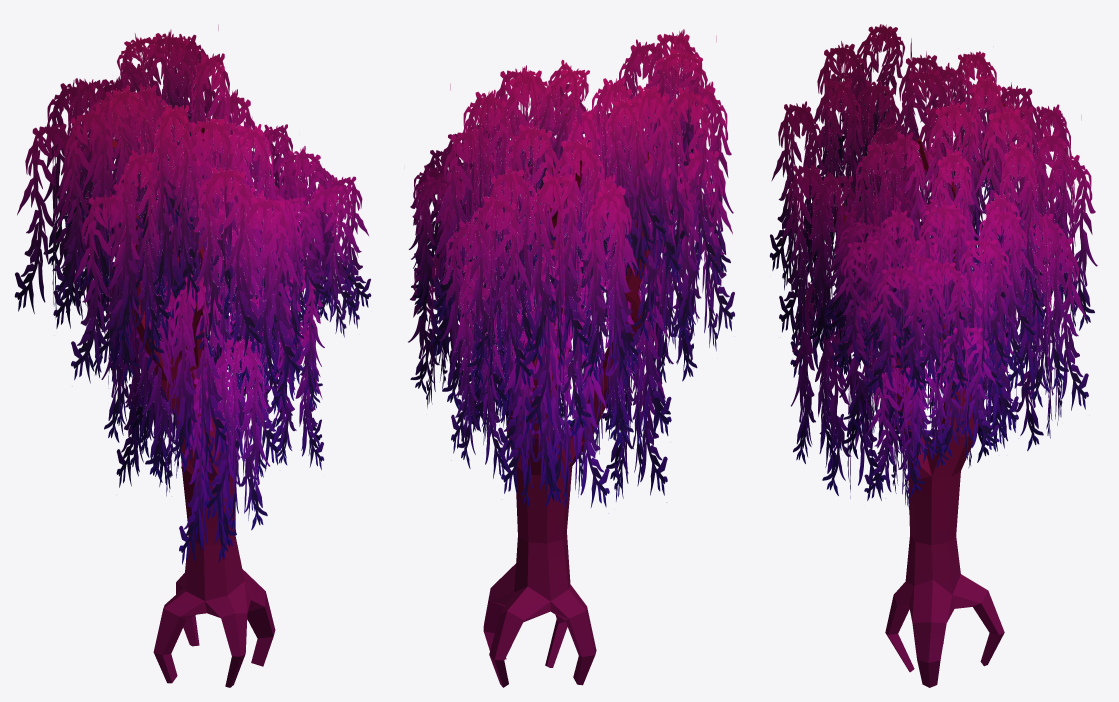
Rendered from willow-1.glb.
3 views of the same model, side by side, from view 1: azimuth 30°, elevation 25°; view 2: azimuth 150°, elevation 25°; view 3: azimuth 270°, elevation 25° (orthographic). The views are drawn at different scales.
Parts seen in each view (by area): view 1: SM_Tree_Willow_Medium_01; view 2: SM_Tree_Willow_Medium_01; view 3: SM_Tree_Willow_Medium_01.
Boxes of the visible parts, left/top/right/bottom form: SM_Tree_Willow_Medium_01: left=14, top=24, right=371, bottom=687; SM_Tree_Willow_Medium_01: left=408, top=29, right=734, bottom=687; SM_Tree_Willow_Medium_01: left=769, top=24, right=1097, bottom=687.
Bounding box in the file's own units: 3.36 × 6.68 × 3.36.
2 materials, 2 textured.
